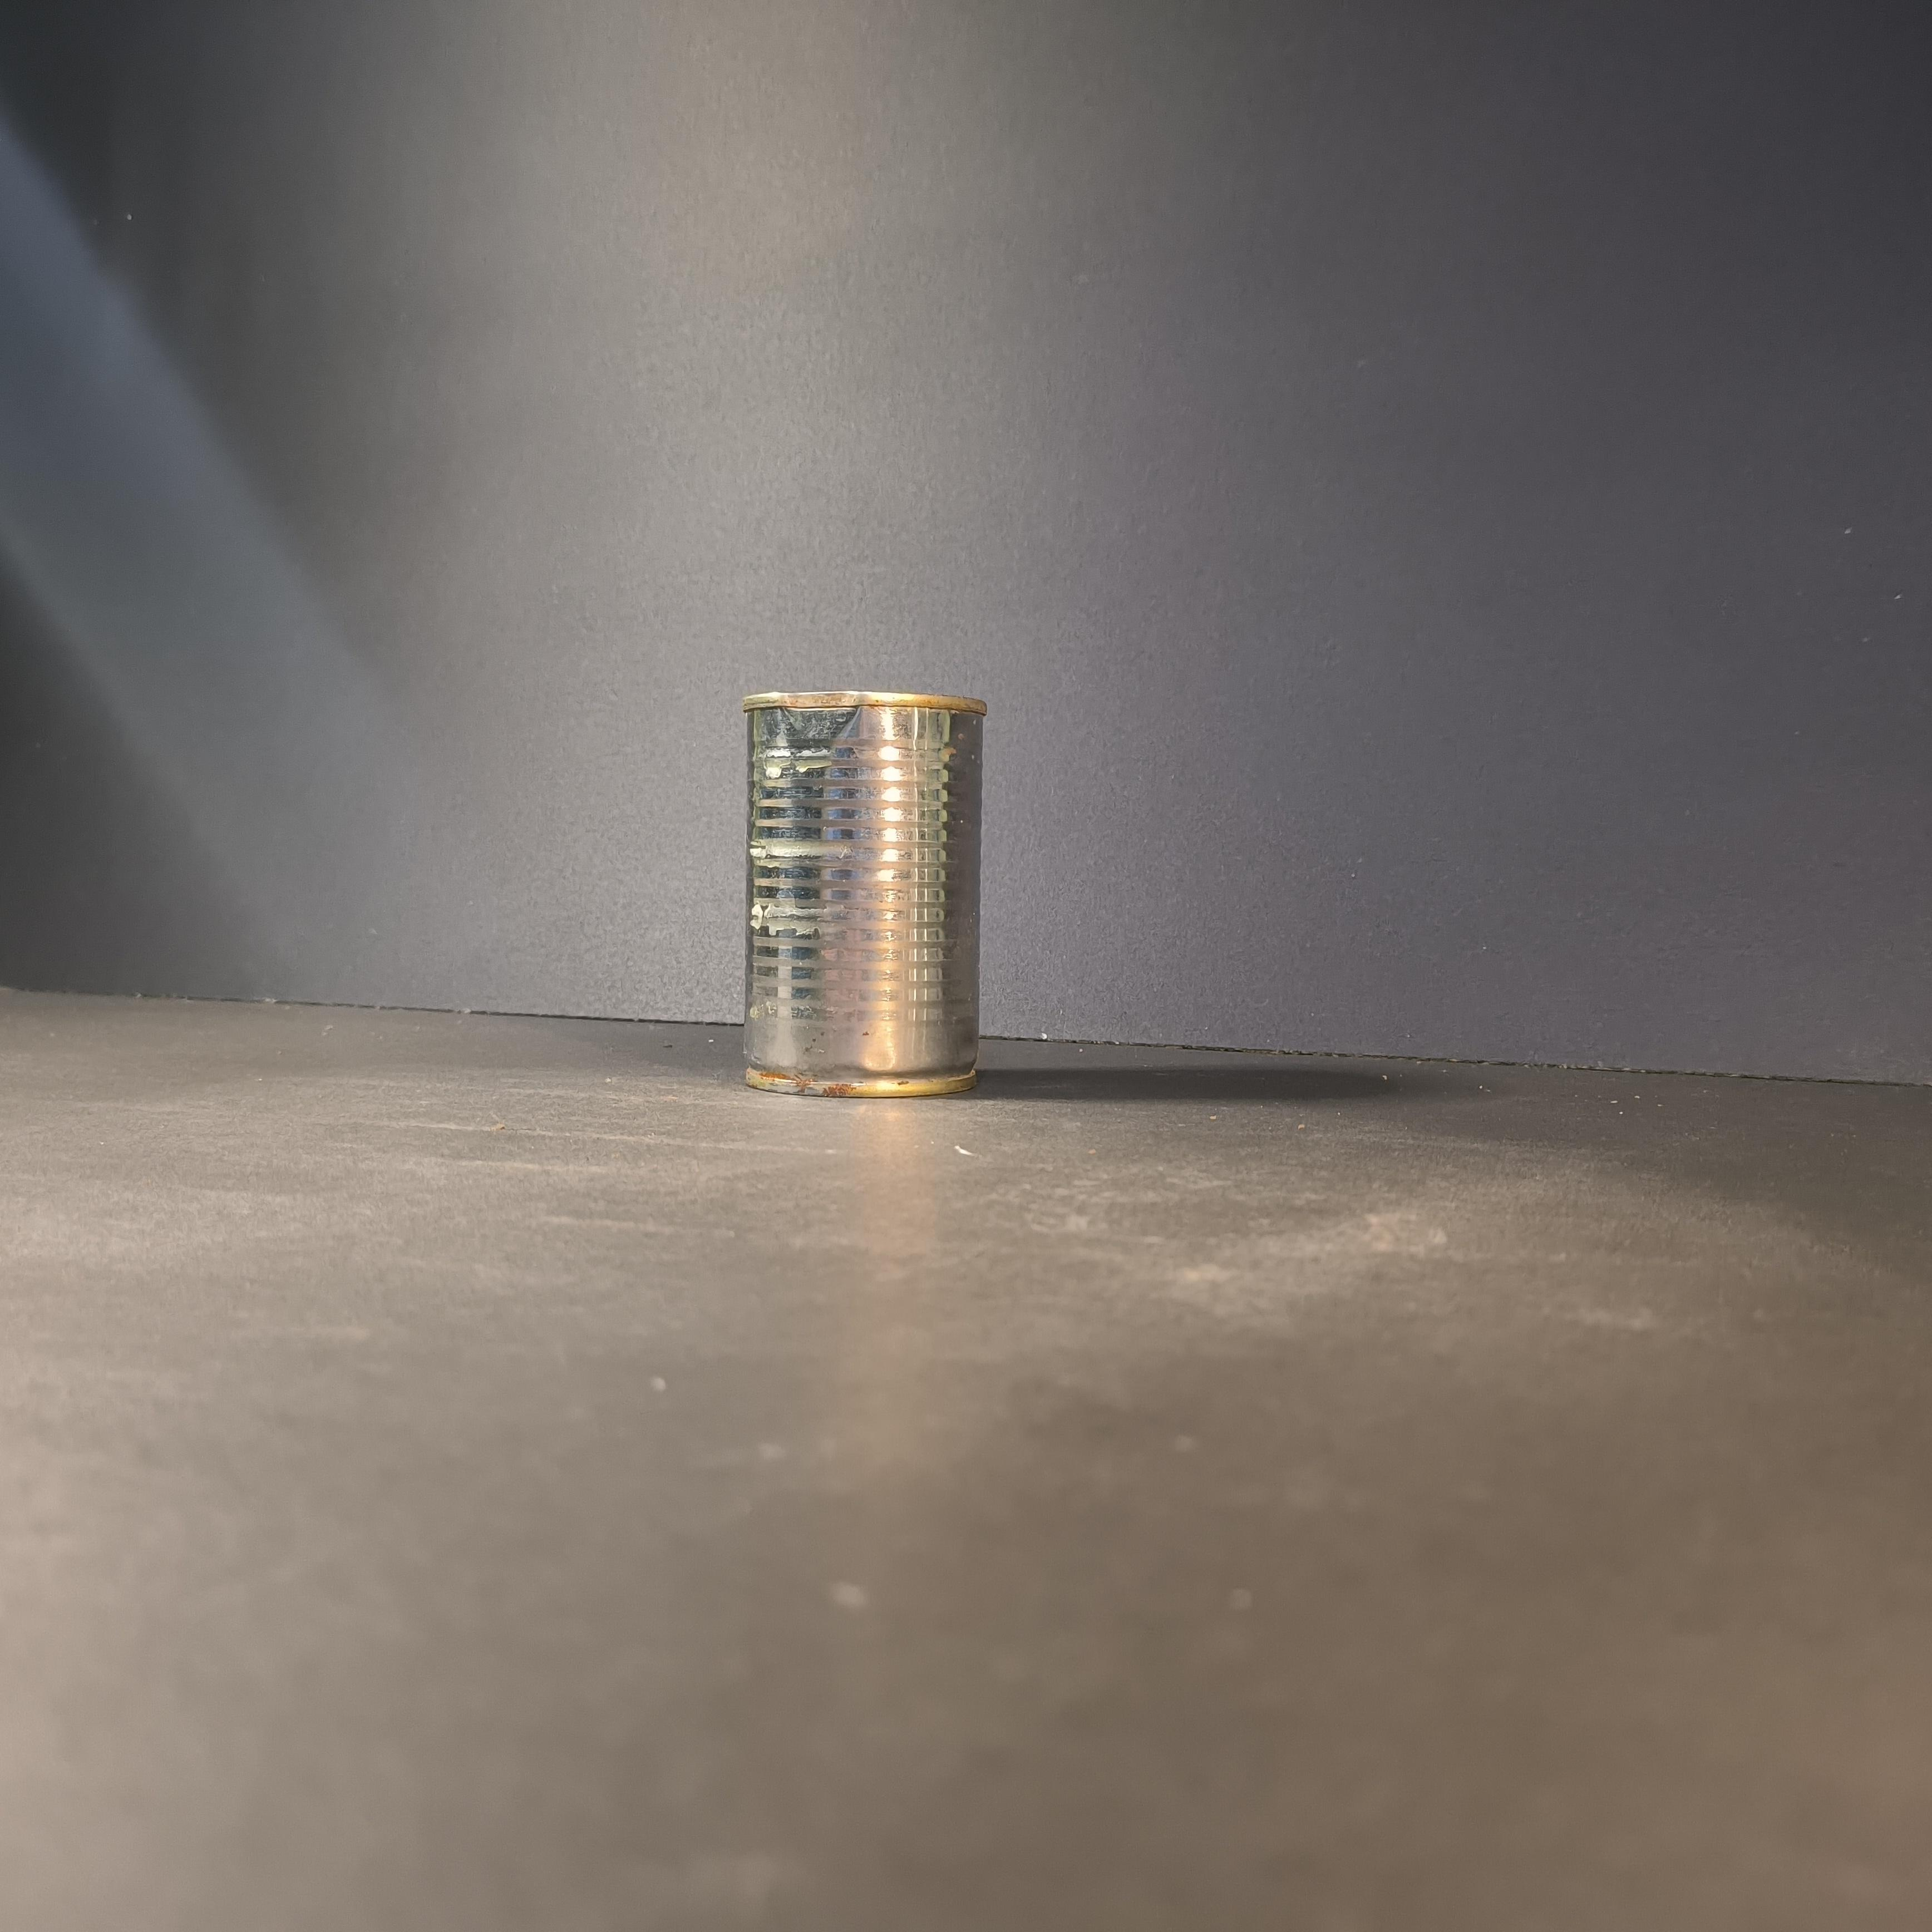Dented: (729, 662, 1010, 1116)
